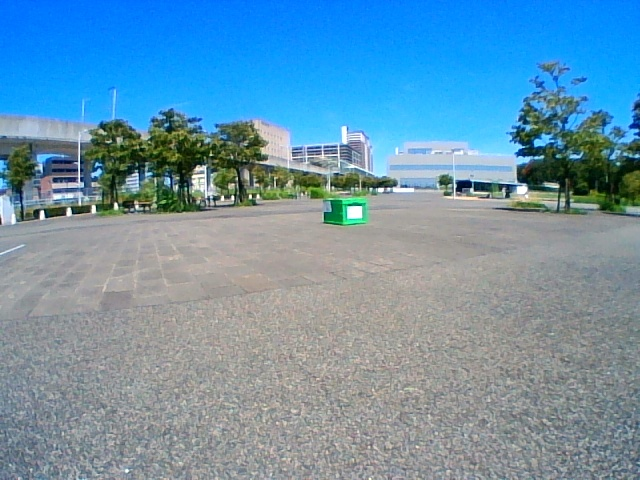green_box: (323, 199, 366, 225)
tag: (323, 201, 331, 210)
